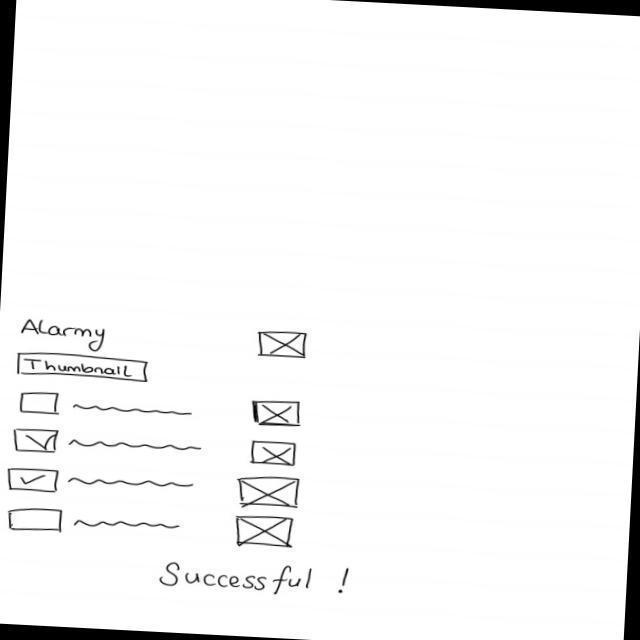button: (16, 351, 151, 384)
checkbox: (13, 427, 203, 464), (7, 467, 197, 502), (8, 506, 183, 540), (19, 391, 196, 424)
image: (237, 475, 302, 510), (235, 515, 298, 550), (256, 331, 310, 362), (252, 399, 304, 429), (249, 440, 298, 469)
label: (159, 558, 354, 603), (21, 318, 108, 354)
